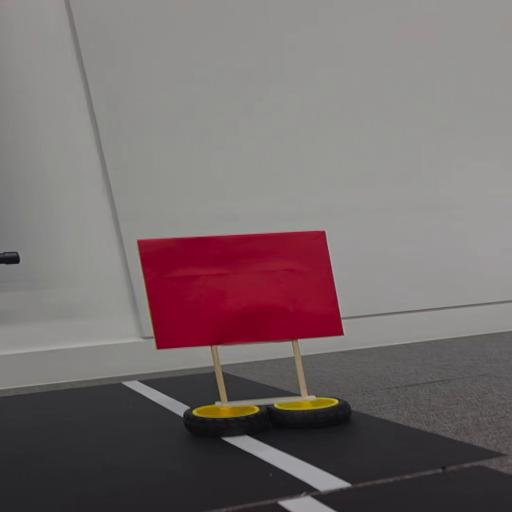Sign_A: (126, 228, 368, 446)
